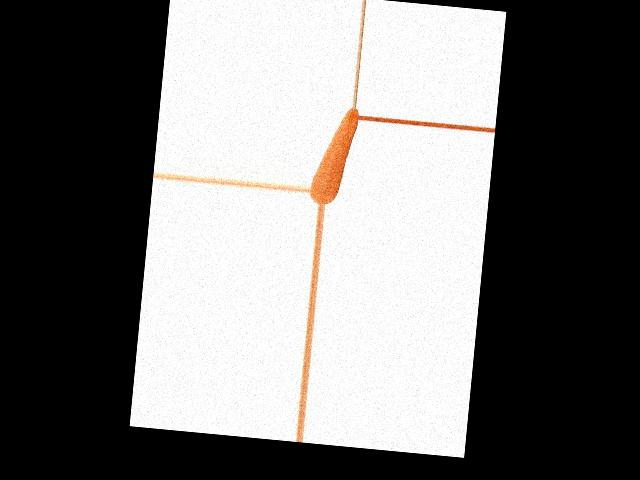carrot: (309, 104, 359, 206)
